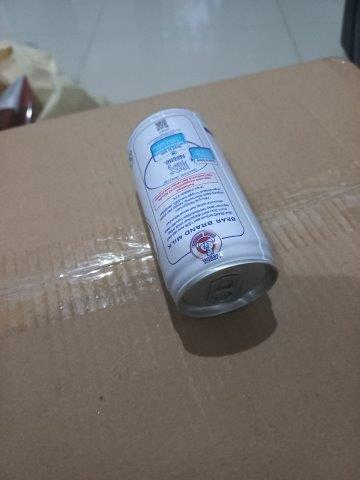kaleng: (129, 107, 280, 320)
kardus: (2, 57, 360, 480)
